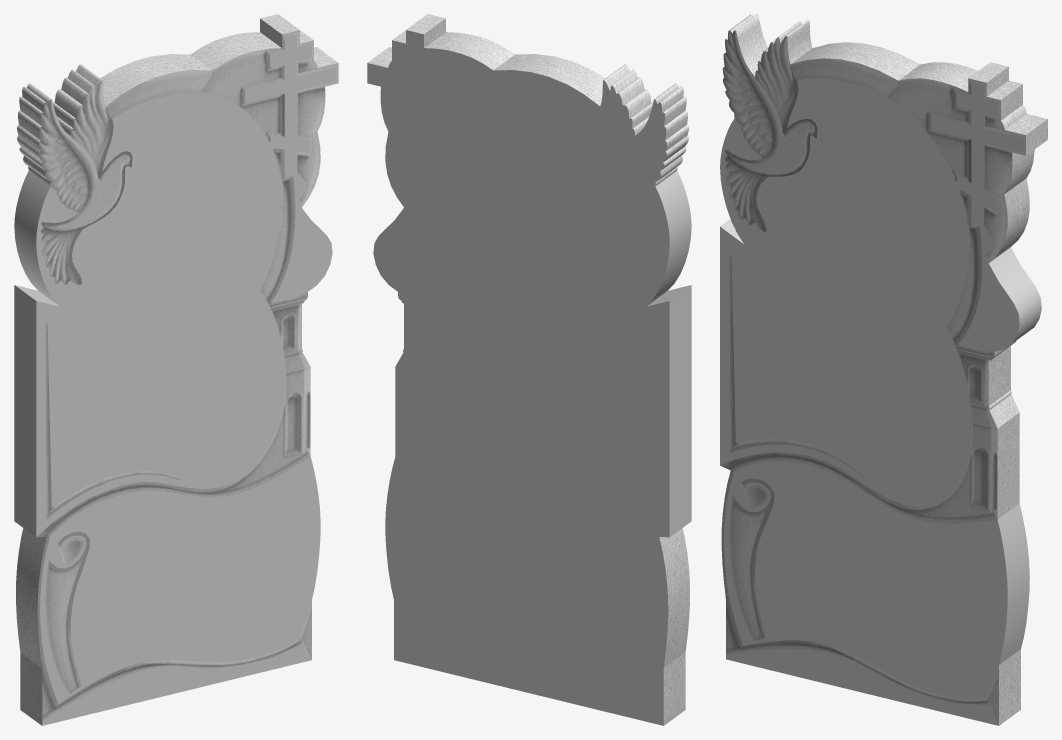
The model's file is cnc74b64f6f6_tkf.glb.
3 views of the same model, side by side, from view 1: azimuth 30°, elevation 25°; view 2: azimuth 150°, elevation 25°; view 3: azimuth 330°, elevation 25° (orthographic).
Visible parts, largest first — view 1: Pam-d03-061, Pam-d03-061_2_notexture; view 2: Pam-d03-061, Pam-d03-061_2_notexture; view 3: Pam-d03-061, Pam-d03-061_2_notexture.
Part boxes in pixels (box(x1,y1,x2,y2)): Pam-d03-061: box(14, 34, 336, 725); Pam-d03-061_2_notexture: box(16, 14, 338, 720); Pam-d03-061: box(367, 30, 691, 725); Pam-d03-061_2_notexture: box(367, 14, 689, 720); Pam-d03-061: box(720, 78, 1041, 725); Pam-d03-061_2_notexture: box(720, 14, 1047, 725).
Bounding box in the file's own units: 0.4 × 0.8 × 0.05.
1 material, 1 textured.
